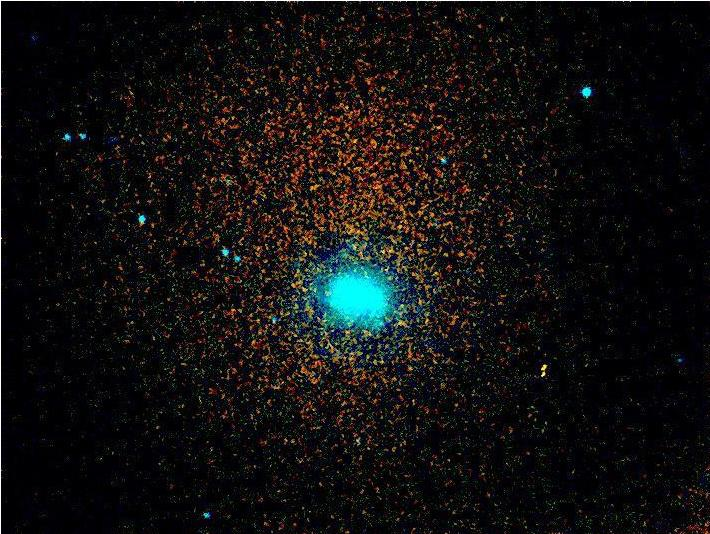star: (527, 352, 557, 382)
